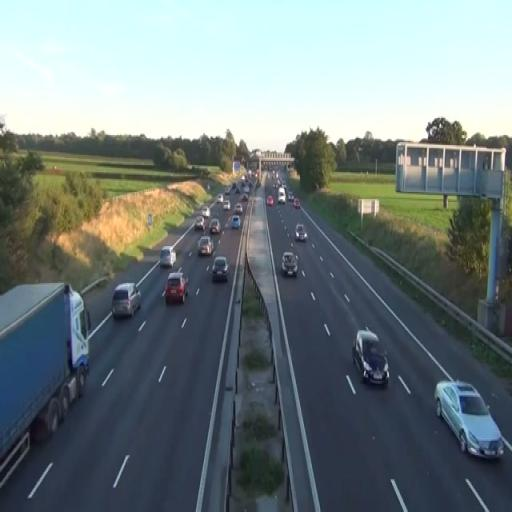Car: (434, 380, 505, 461), (352, 329, 390, 388), (112, 282, 141, 320), (164, 272, 189, 304), (212, 256, 230, 283), (281, 251, 298, 278), (198, 237, 214, 257), (295, 224, 308, 242), (209, 218, 221, 234), (230, 216, 241, 229)
Truck: (0, 281, 91, 488)
